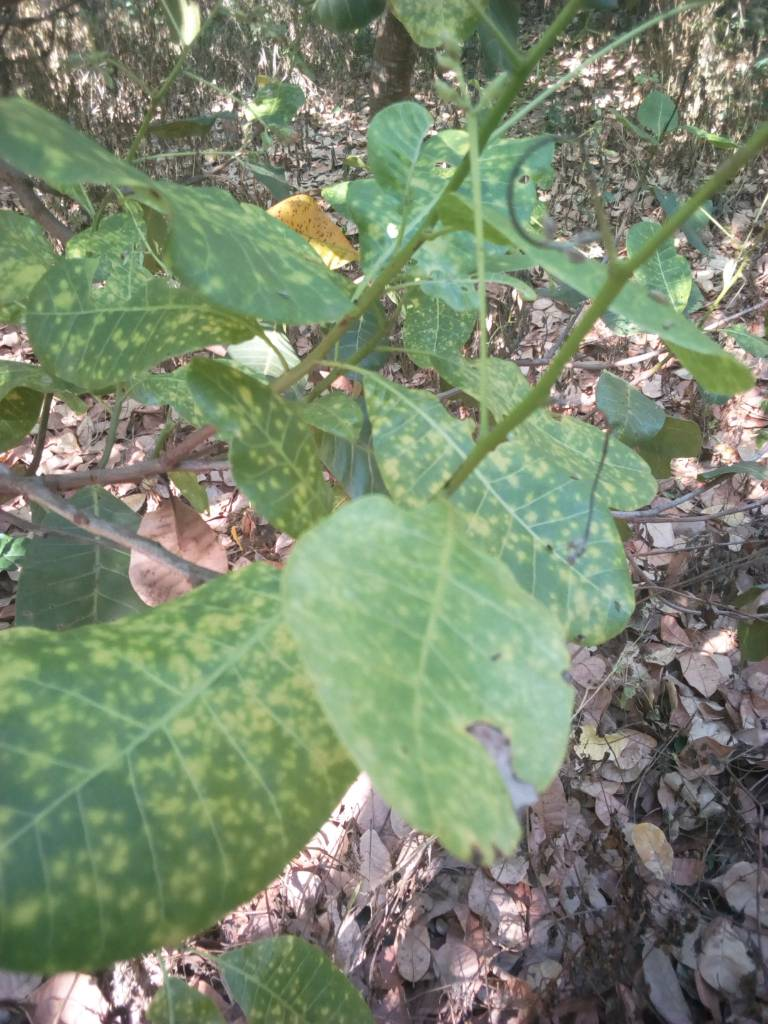Carence minérale: (1, 603, 308, 985), (296, 486, 591, 864), (369, 372, 666, 647), (21, 250, 268, 394), (155, 178, 372, 338), (2, 89, 175, 207), (344, 78, 488, 211)
